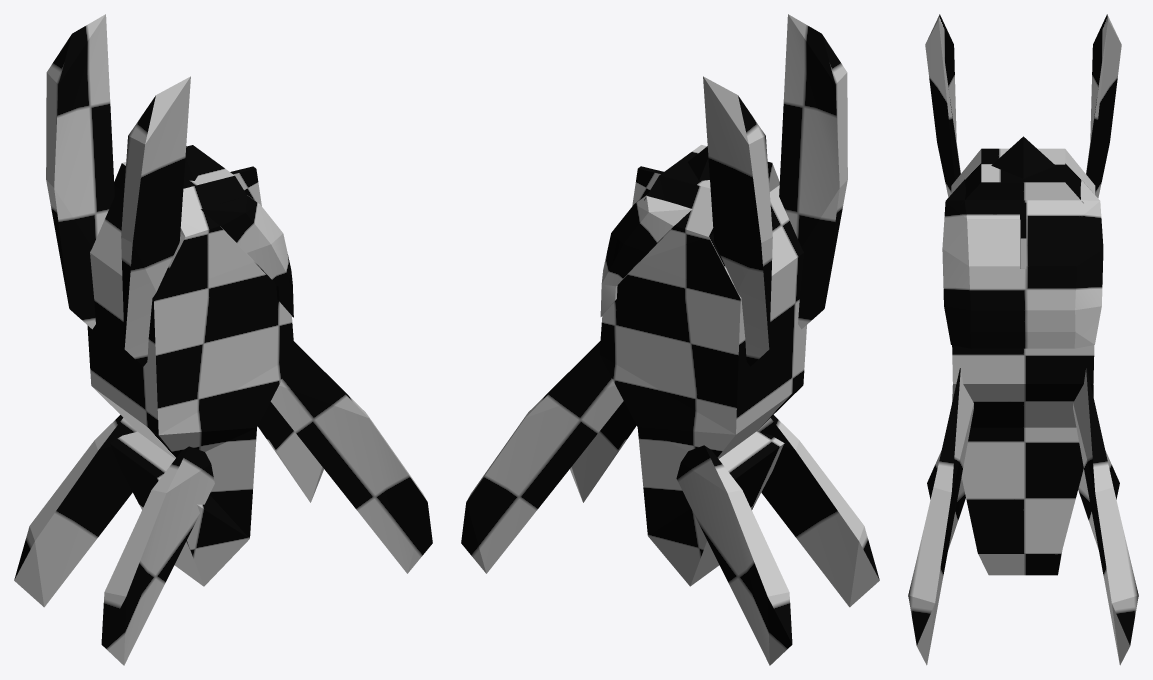
Rendered from beacon-tdm-entrance.obj.
3 views of the same model, side by side, from view 1: azimuth 30°, elevation 25°; view 2: azimuth 150°, elevation 25°; view 3: azimuth 270°, elevation 25° (orthographic).
Parts seen in each view (by area): view 1: beacon_capture_tdm; view 2: beacon_capture_tdm; view 3: beacon_capture_tdm.
Part boxes in pixels (left/top/right/bottom): beacon_capture_tdm: left=14, top=14, right=432, bottom=665; beacon_capture_tdm: left=461, top=14, right=879, bottom=665; beacon_capture_tdm: left=908, top=14, right=1138, bottom=665.
Bounding box in the file's own units: 91.86 × 157 × 57.17.
Materials: 1 (1 with a texture image).
